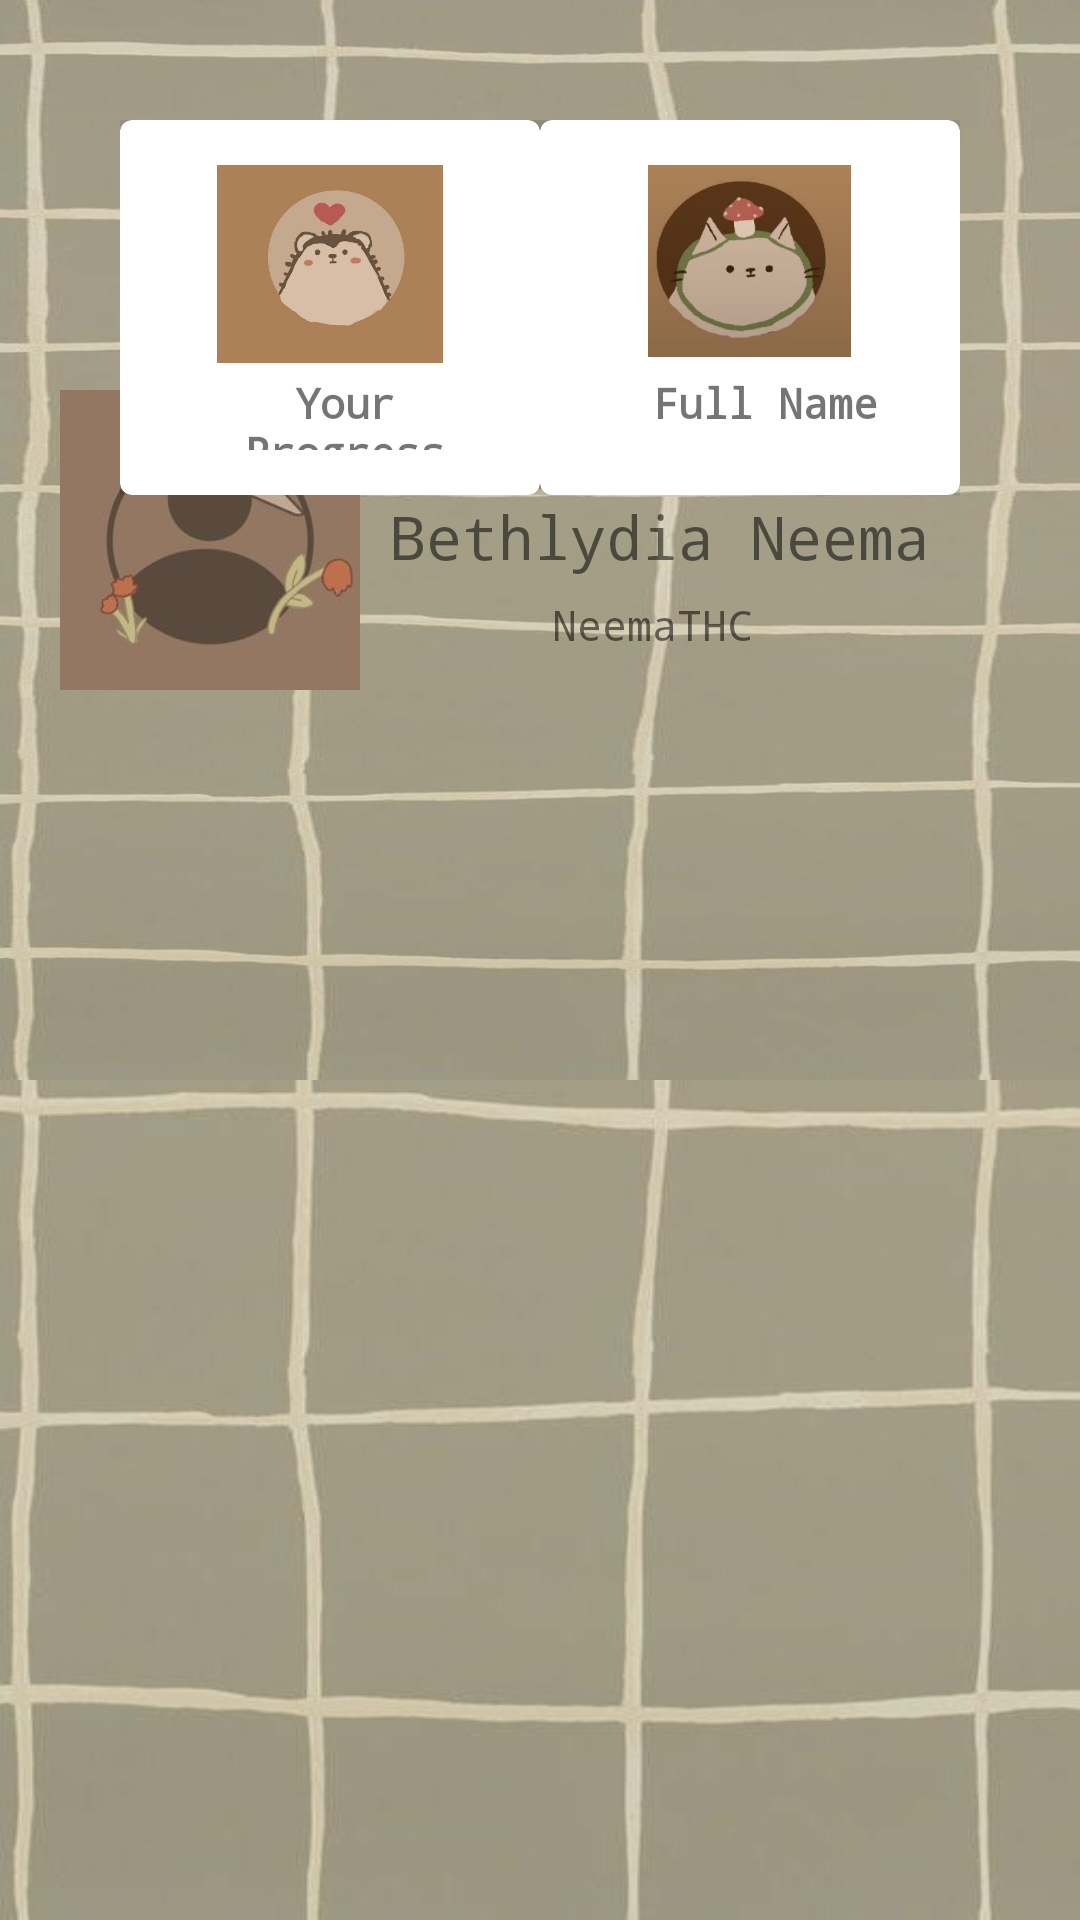

Where icons sit on this 1080x1920 app screen, as (x1,y1,x2,y2):
catwithmushroonhat: (648,165,851,357)
